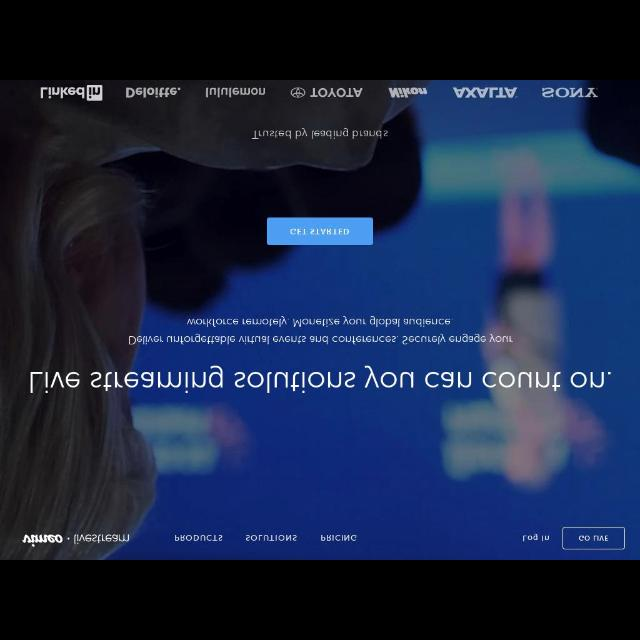backgroundimage: (1, 82, 639, 560)
image: (39, 84, 103, 100), (292, 86, 362, 100), (454, 86, 518, 100), (204, 86, 266, 100), (540, 86, 600, 100), (126, 85, 180, 99), (23, 532, 62, 548), (388, 86, 428, 100)
text: (29, 366, 611, 394), (128, 318, 512, 347), (251, 128, 389, 142), (74, 534, 130, 544), (291, 227, 349, 236), (245, 534, 298, 542), (320, 534, 358, 542), (174, 534, 222, 540), (522, 534, 548, 542), (578, 535, 608, 541)
textbutton: (268, 219, 372, 245), (564, 528, 624, 548)
